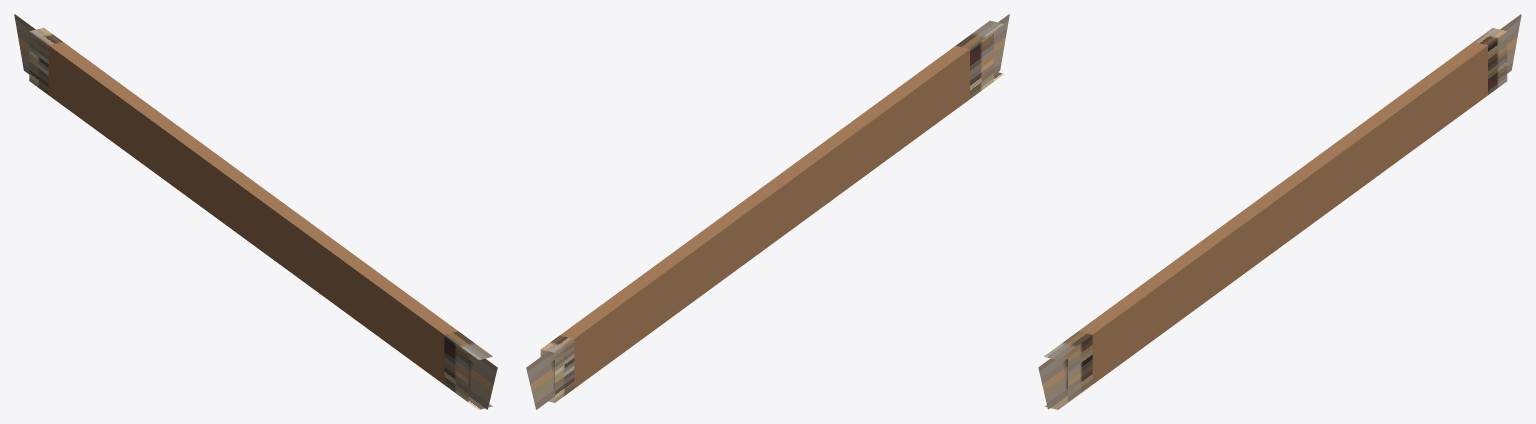
Rendered from DBK_WoodFrame_Alone_E.fbx.
The picture shows the model from 3 angles, left to right: view 1: azimuth 30°, elevation 25°; view 2: azimuth 150°, elevation 25°; view 3: azimuth 330°, elevation 25°; orthographic projection.
Parts seen in each view (by area): view 1: DBK_WoodFrame_Alone_E; view 2: DBK_WoodFrame_Alone_E; view 3: DBK_WoodFrame_Alone_E.
Part boxes in pixels (x1,y1,x2,y2): DBK_WoodFrame_Alone_E: (14, 14, 497, 409); DBK_WoodFrame_Alone_E: (526, 14, 1009, 409); DBK_WoodFrame_Alone_E: (1038, 14, 1521, 409).
Bounding box in the file's own units: 5 × 16.58 × 290.
